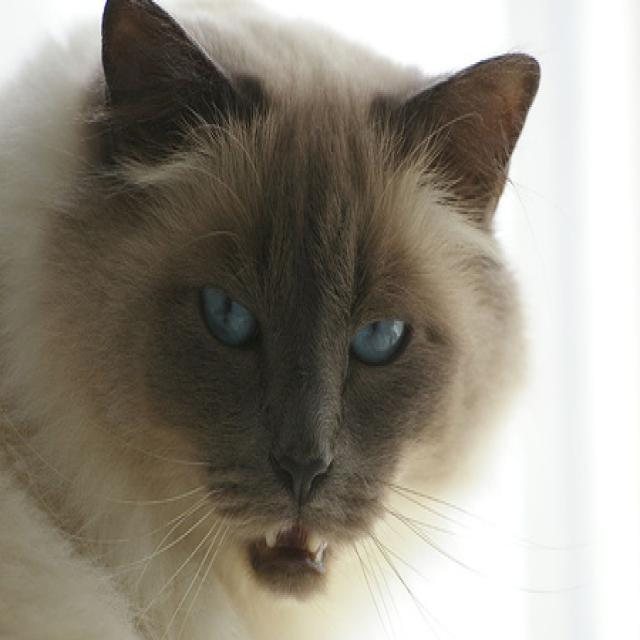Birman: (0, 0, 542, 640)
